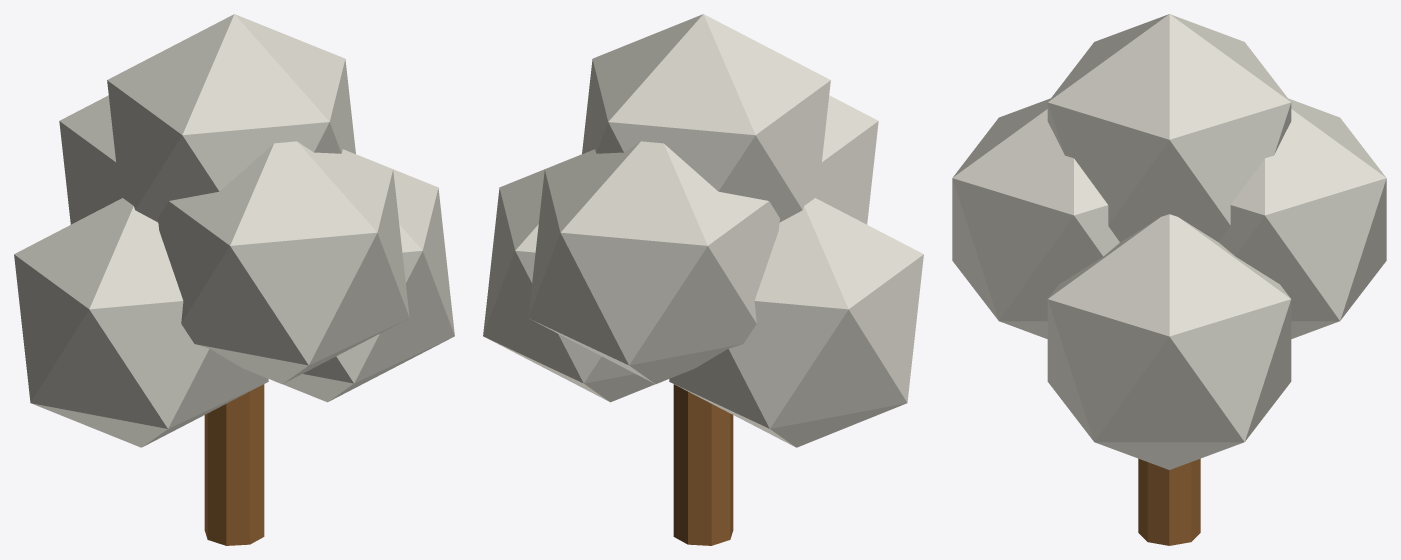
The model's file is harvest_drop_cotton.glb.
The picture shows the model from 3 angles, left to right: view 1: azimuth 30°, elevation 25°; view 2: azimuth 150°, elevation 25°; view 3: azimuth 270°, elevation 25°; orthographic projection.
Visible parts, largest first — view 1: FTF_Harvest_Drop_Cotton_Boll_Mesh; view 2: FTF_Harvest_Drop_Cotton_Boll_Mesh; view 3: FTF_Harvest_Drop_Cotton_Boll_Mesh.
Boxes of the visible parts, <box> form: FTF_Harvest_Drop_Cotton_Boll_Mesh: <box>14,14,454,545</box>; FTF_Harvest_Drop_Cotton_Boll_Mesh: <box>483,14,923,545</box>; FTF_Harvest_Drop_Cotton_Boll_Mesh: <box>952,14,1386,545</box>.
Bounding box in the file's own units: 0.3947 × 0.48 × 0.3642.
